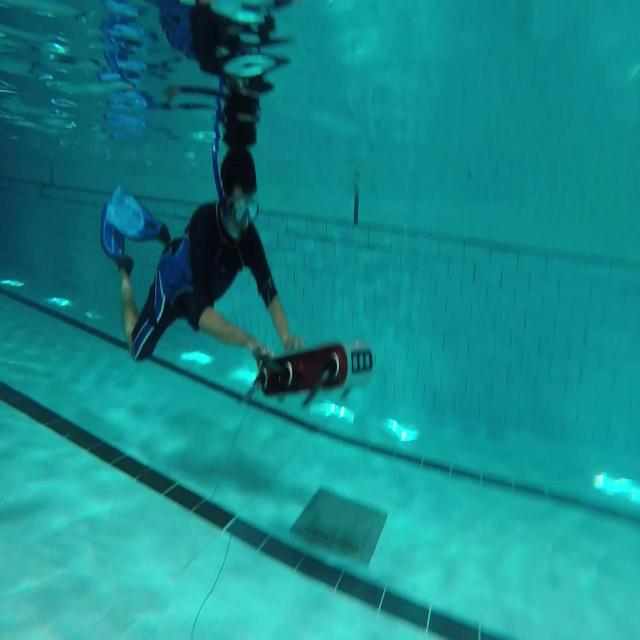human: (100, 144, 303, 370)
